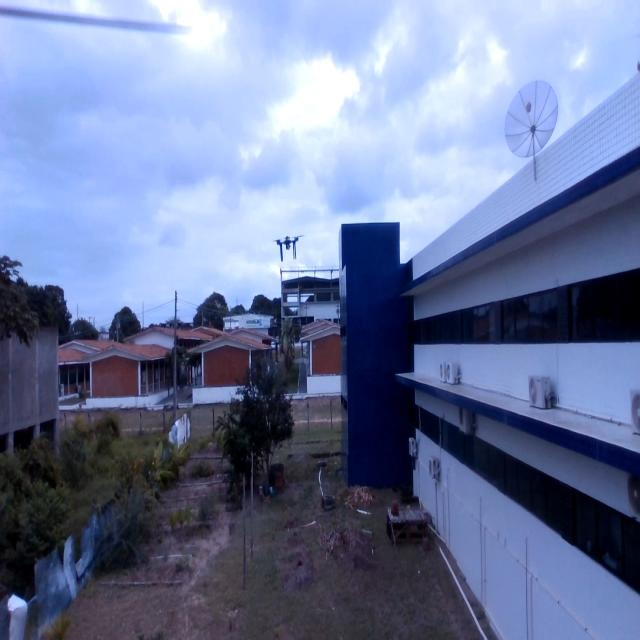-uav-: (275, 232, 305, 264)
